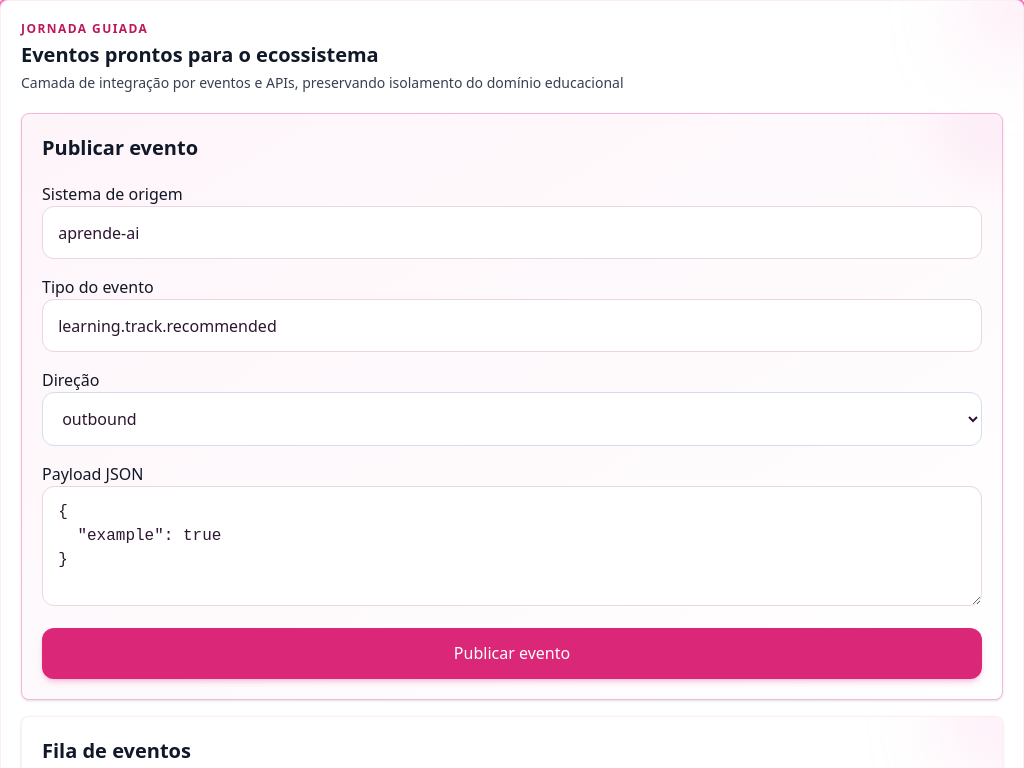
IntegrationPage › mostra erro quando publicação falha
The width and height of the screenshot is (1024, 768).
Click the button "Publicar evento" at (512, 653), box [42,628,982,679]
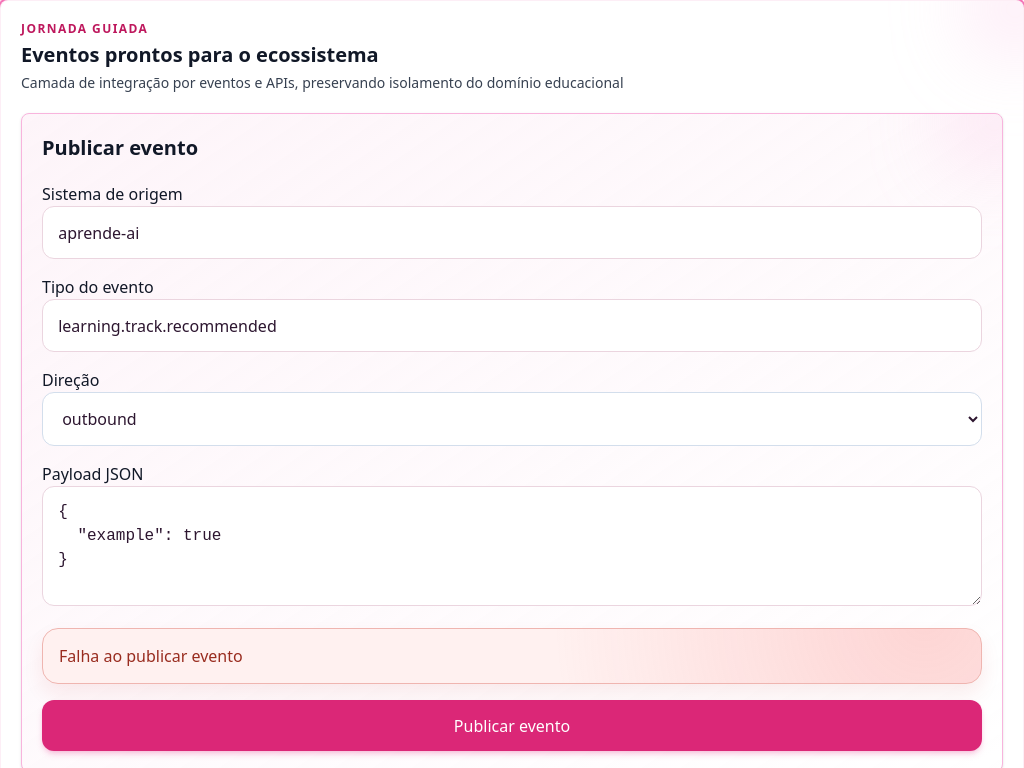
Now the text "Falha ao publicar evento" is shown, box [42,628,982,684]
